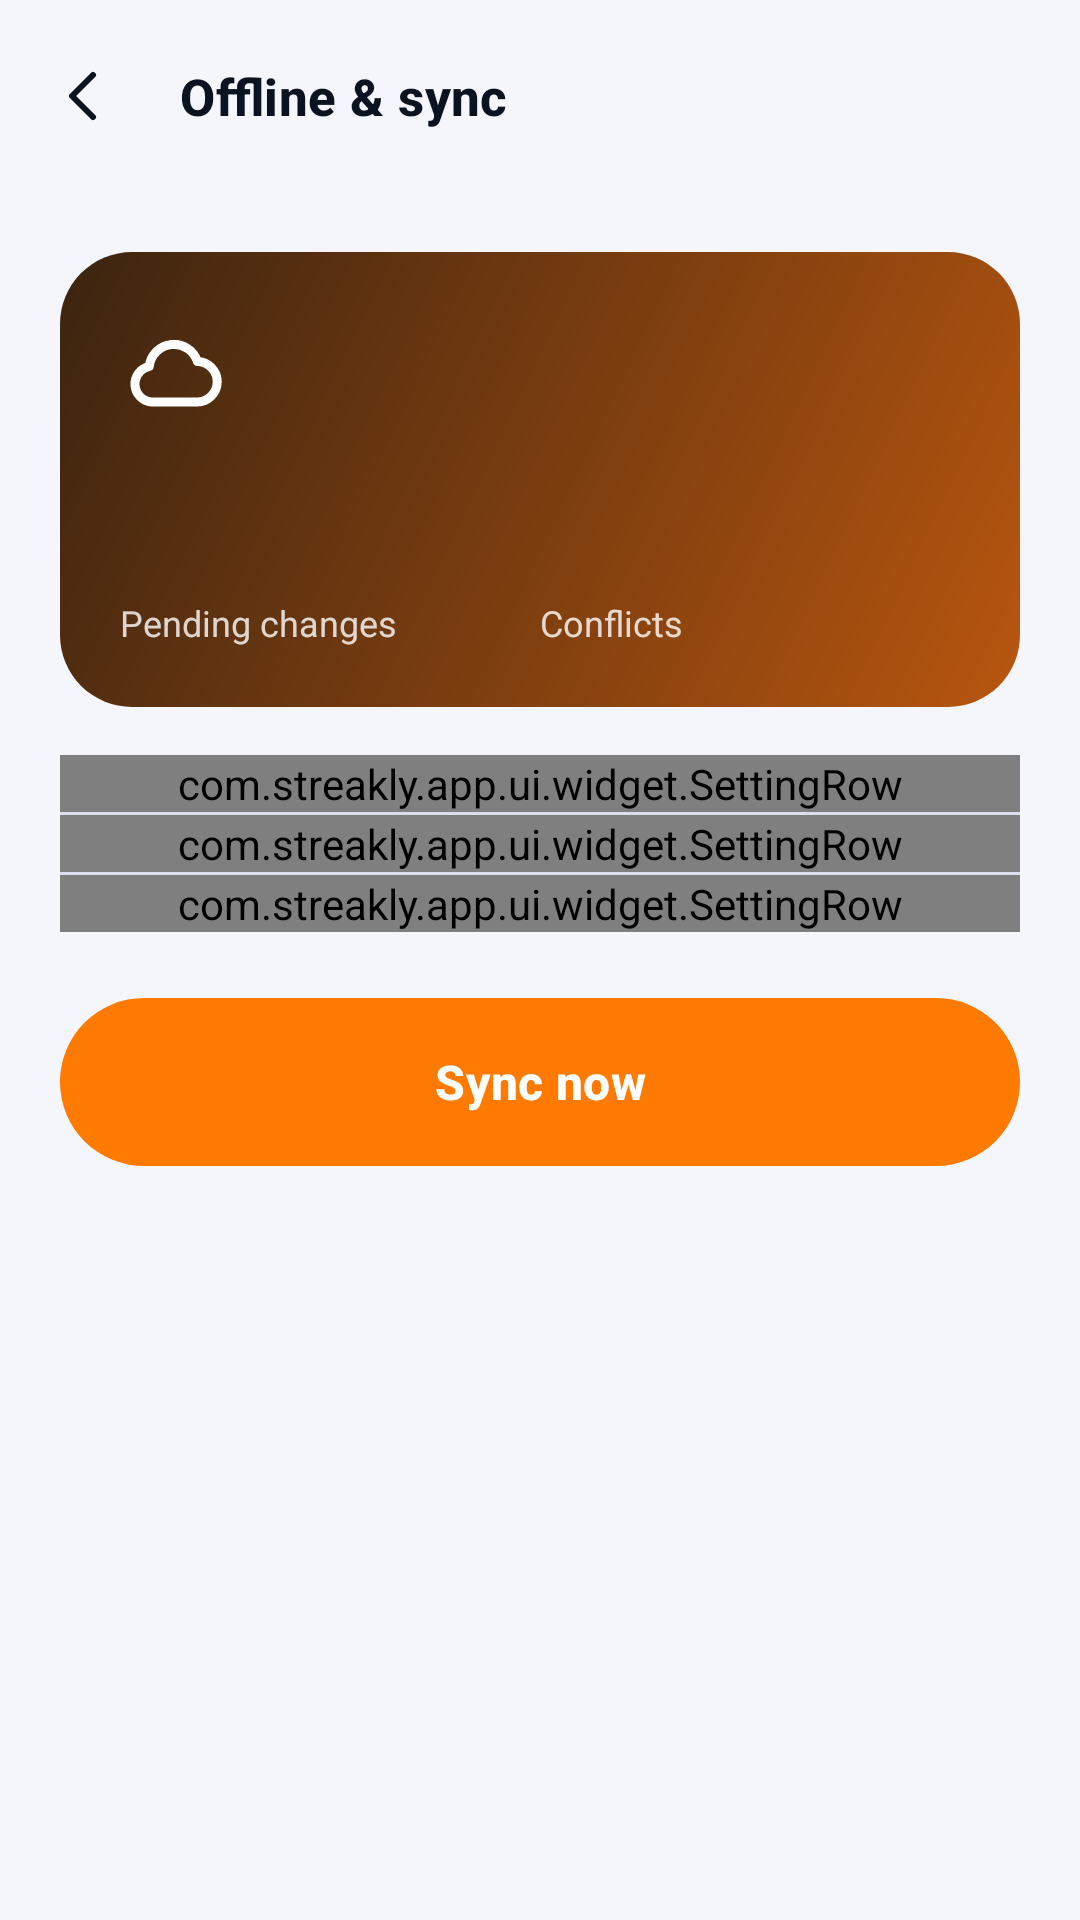

Where to tap for icons on this 1080*1920 app screen, as point (x, y):
cloud: point (176, 373)
